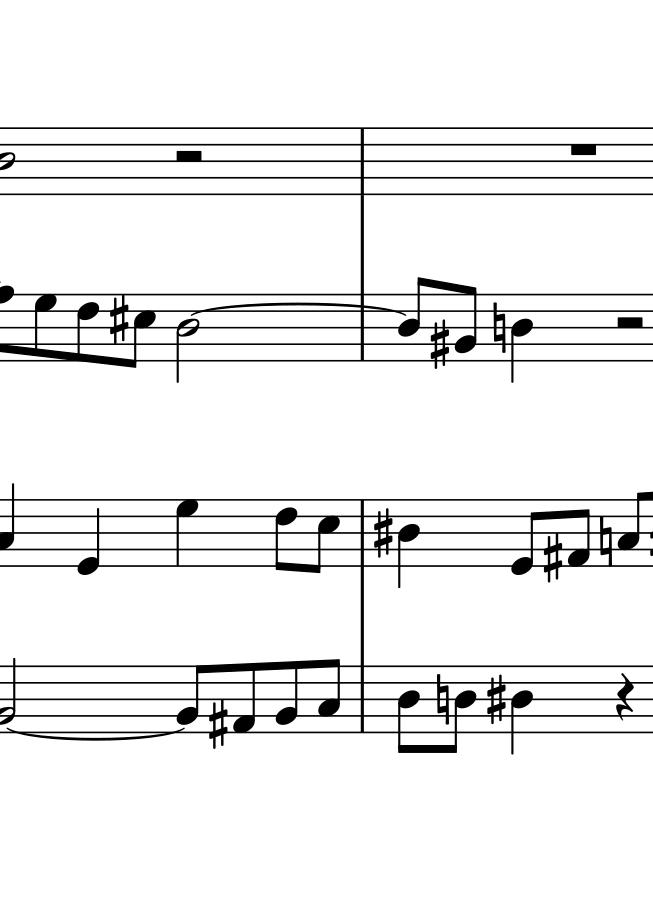2_4: (175, 293, 200, 384)
4_0: (74, 498, 101, 576)
4_4: (396, 497, 422, 589), (509, 292, 533, 384), (509, 664, 533, 756)
4_7: (174, 498, 199, 569)
8_0: (510, 497, 543, 578)
8_1: (231, 661, 258, 734), (565, 498, 591, 570)
8_2: (175, 663, 208, 734), (454, 284, 478, 365), (274, 658, 298, 736)
8_3: (617, 487, 646, 567), (318, 657, 342, 736)
8_4: (397, 274, 430, 364), (446, 661, 475, 755), (393, 663, 421, 754)
8_5: (129, 292, 156, 371), (312, 498, 339, 574)
8_6: (274, 497, 299, 573), (74, 293, 98, 365)
8_7: (32, 292, 57, 363)
Natural: (598, 513, 616, 573), (432, 671, 451, 723), (492, 302, 507, 355)
Rests1: (566, 140, 601, 157)
Rests2: (171, 148, 211, 166), (613, 315, 645, 331)
Rests4: (615, 671, 635, 722)
Sharp: (106, 294, 132, 344), (486, 675, 508, 728), (542, 533, 563, 588), (430, 319, 450, 371), (209, 698, 229, 750), (374, 508, 394, 559)
Single_barline: (350, 127, 378, 196), (351, 293, 376, 360), (351, 665, 373, 732), (352, 498, 373, 568)
Slur: (190, 303, 407, 316), (9, 727, 186, 740)
